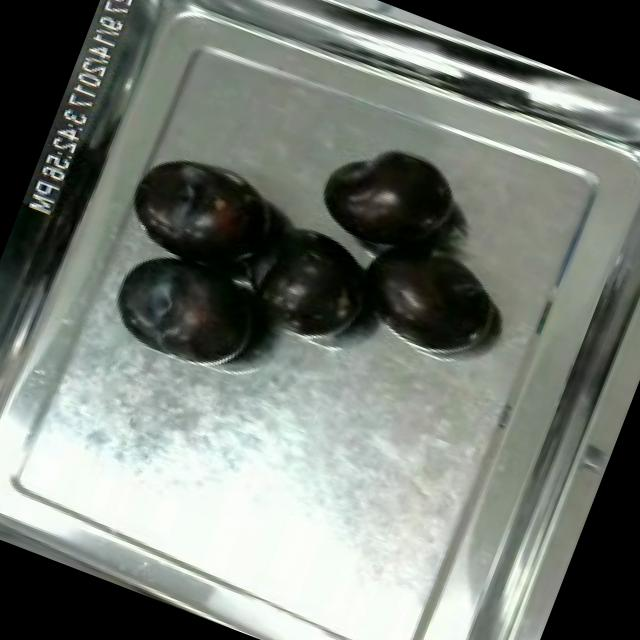Fruit: (92, 225, 284, 389), (114, 136, 290, 286), (342, 218, 512, 365), (304, 123, 470, 273), (237, 208, 391, 352)
